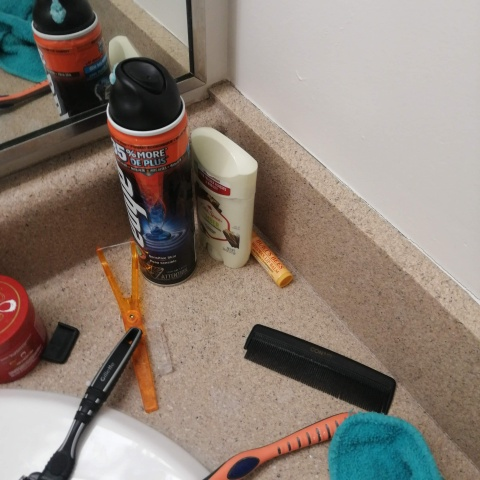chapstick: (249, 227, 293, 288)
